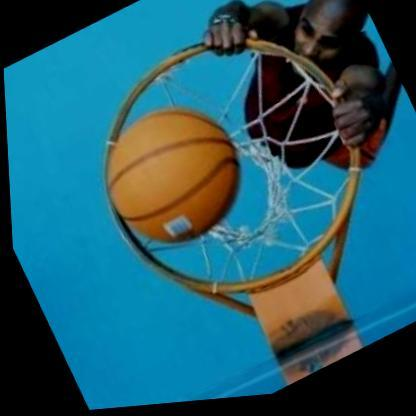basketball: (84, 87, 257, 264)
